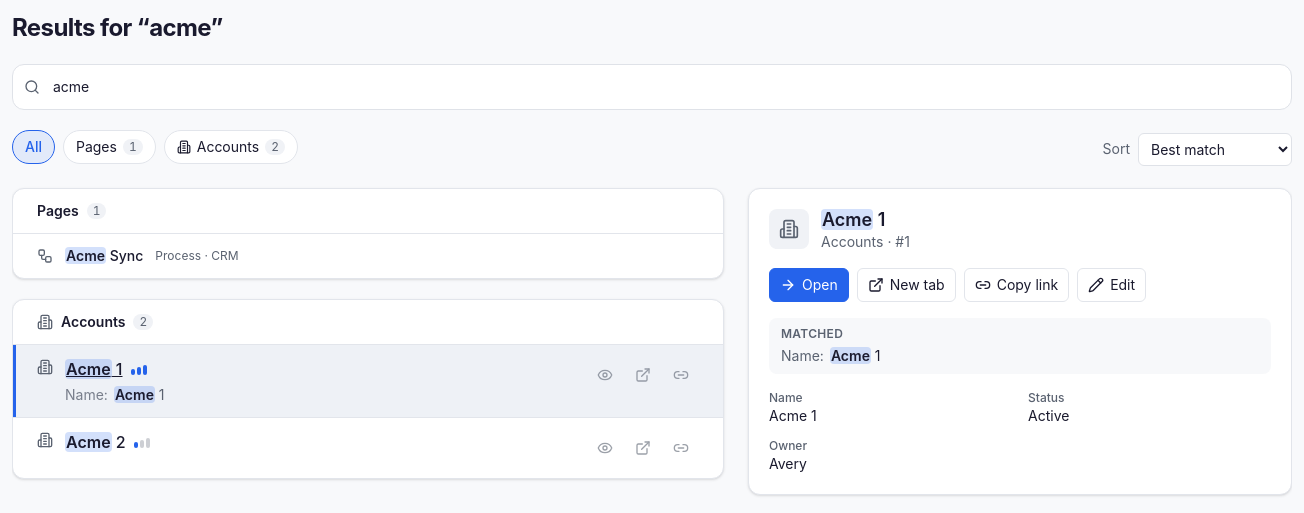
Test: SearchPage › wide screens preview the first result beside the list, follow hover, focus and arrow keys, and offer edit when permitted
Check: the text "Owner" is shown, box x1=769 y1=438 x2=807 y2=452
Check: the text "Avery" is shown, box x1=769 y1=454 x2=807 y2=472
Press Arrowdown
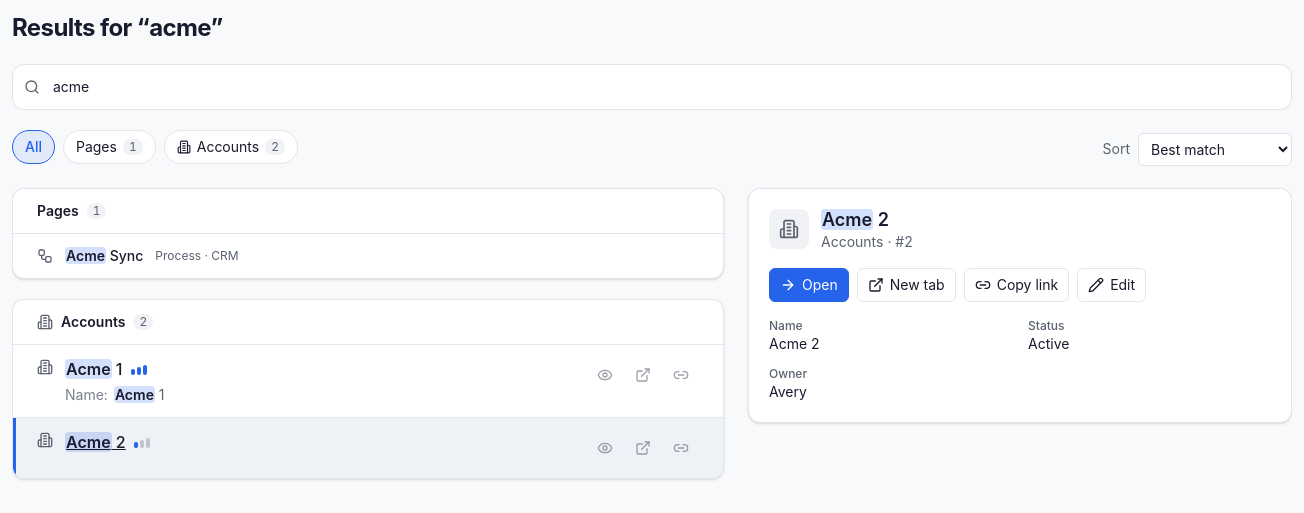
Check: the heading "Acme 2" is shown, box x1=821 y1=209 x2=889 y2=230
pointer: hovering a result previews it
Hover over the list item "Acme 1 Name: Acme 1": (368, 382) x1=13 y1=345 x2=723 y2=418
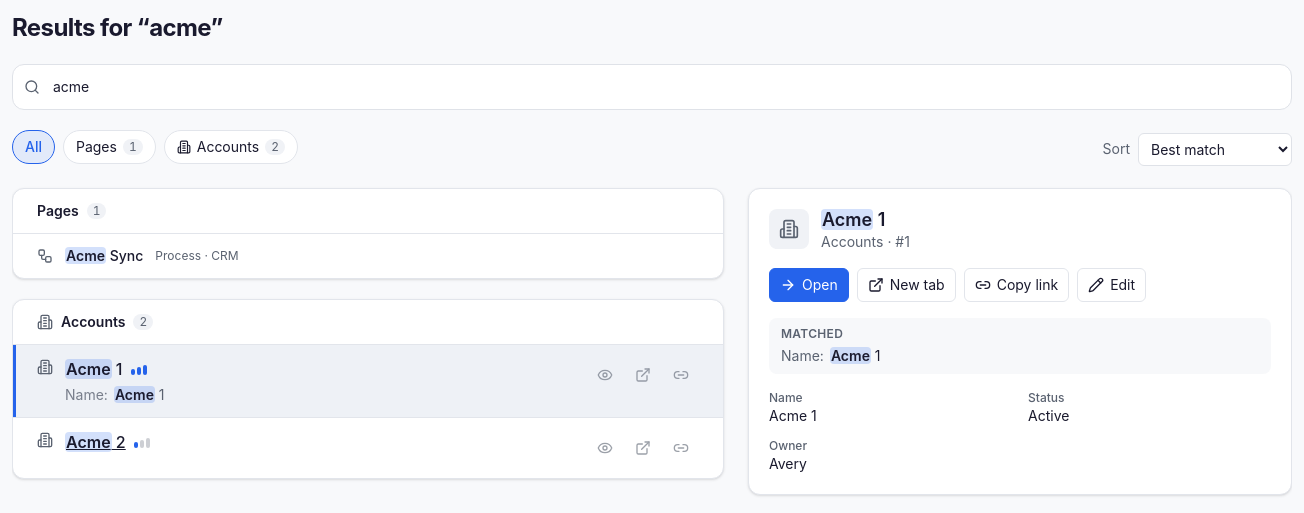
Check: the heading "Acme 1" is shown, box x1=821 y1=209 x2=885 y2=230
